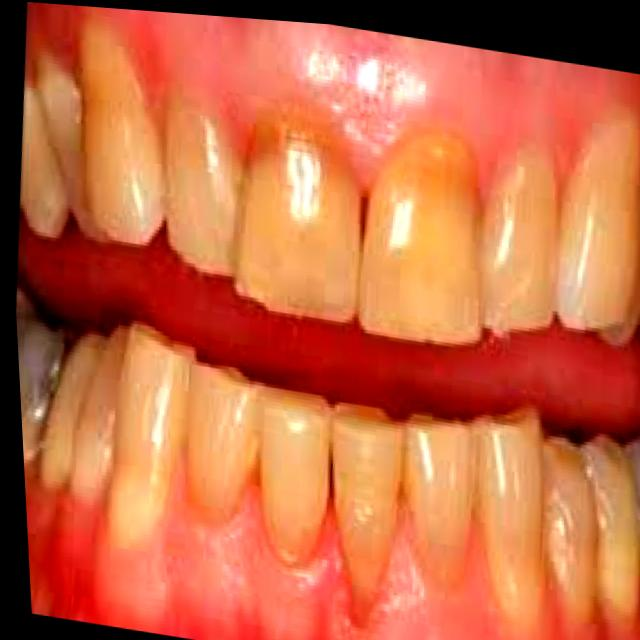tooth-discoloration: (361, 131, 482, 341), (236, 124, 361, 319), (334, 403, 404, 614), (260, 386, 330, 561), (406, 414, 474, 586)
